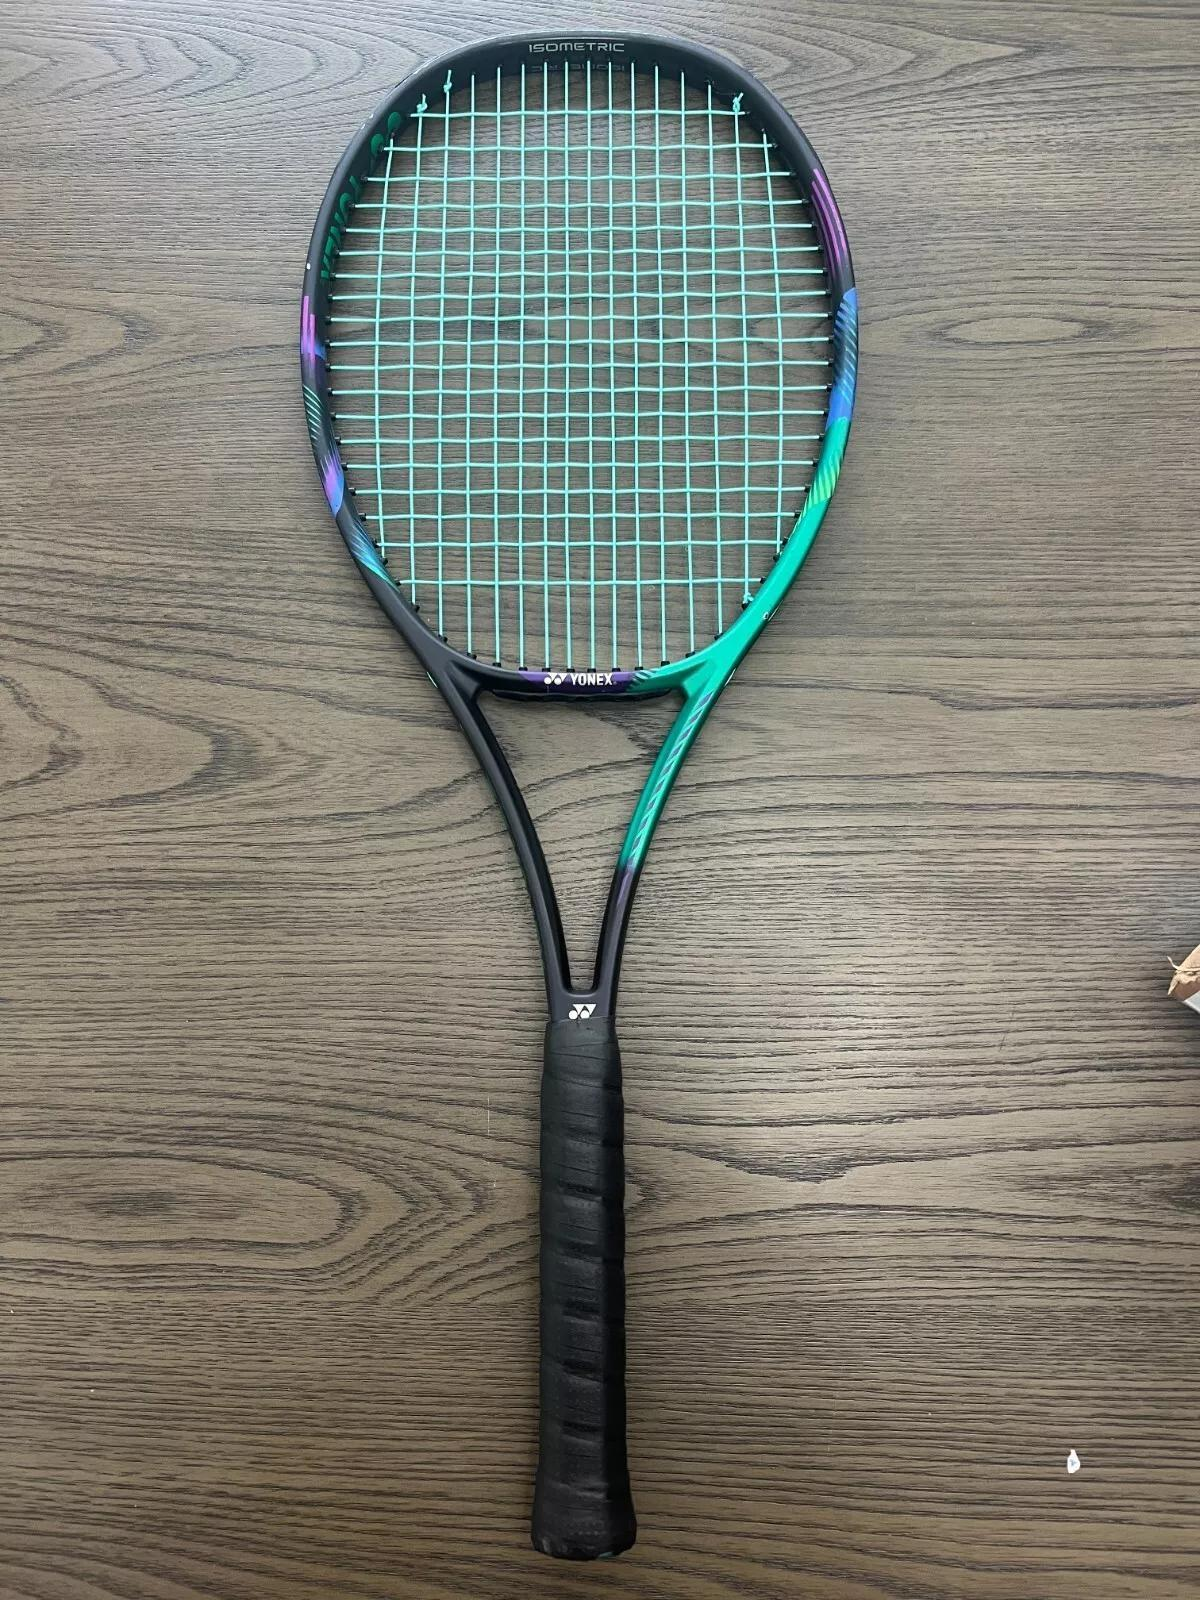Tennis-Racket: (300, 34, 856, 1557)
